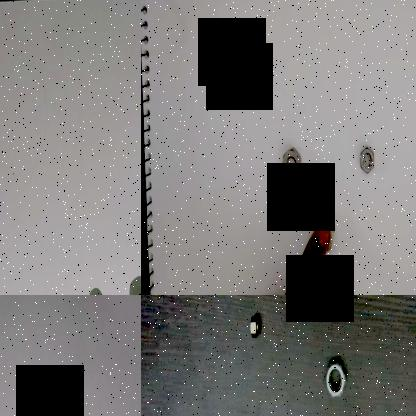NUTS: (278, 138, 304, 190), (324, 355, 348, 405), (359, 136, 376, 178), (249, 313, 262, 342), (56, 404, 72, 416)
